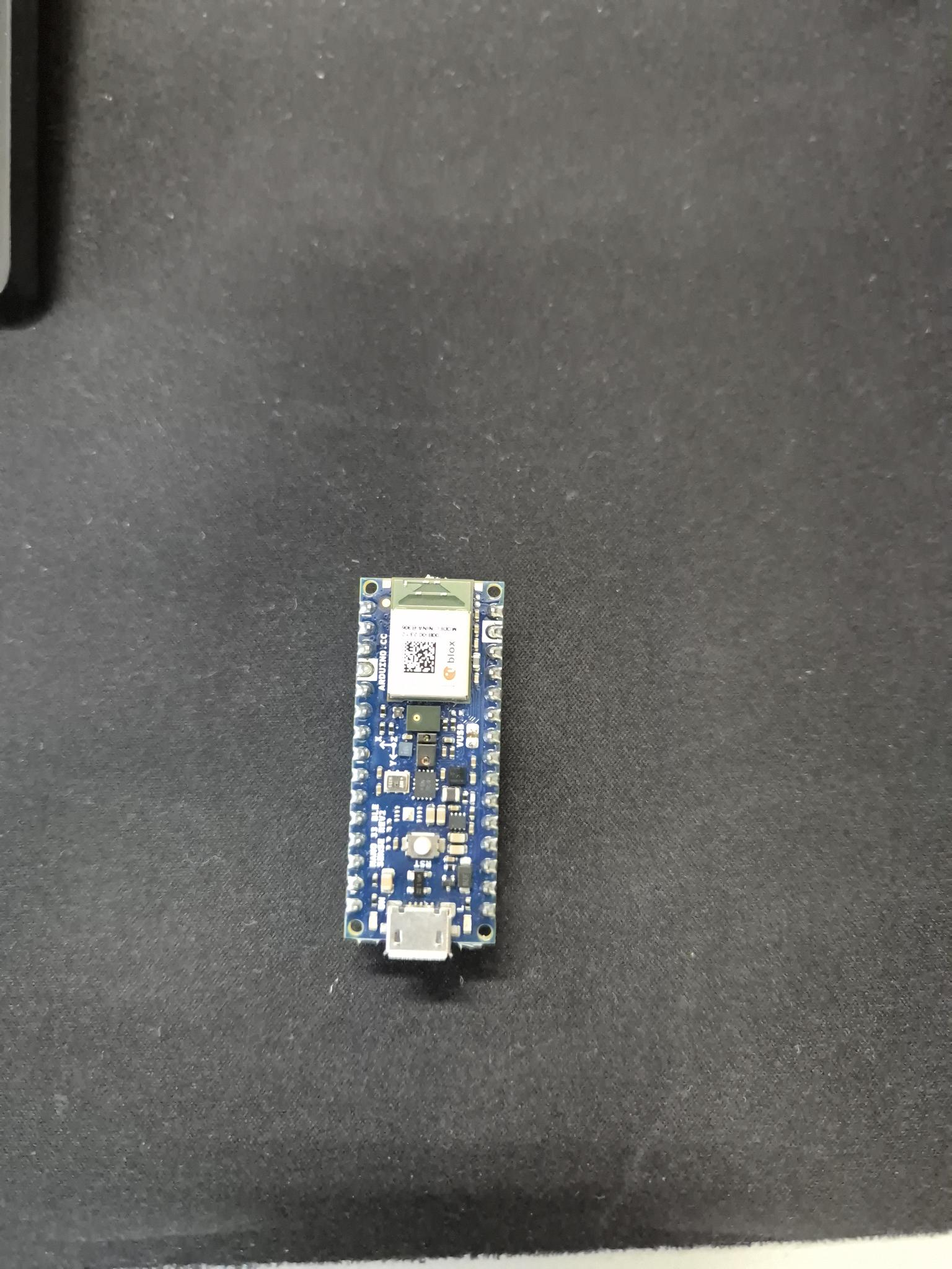arduino-nano-ble-sense: (345, 577, 504, 960)
